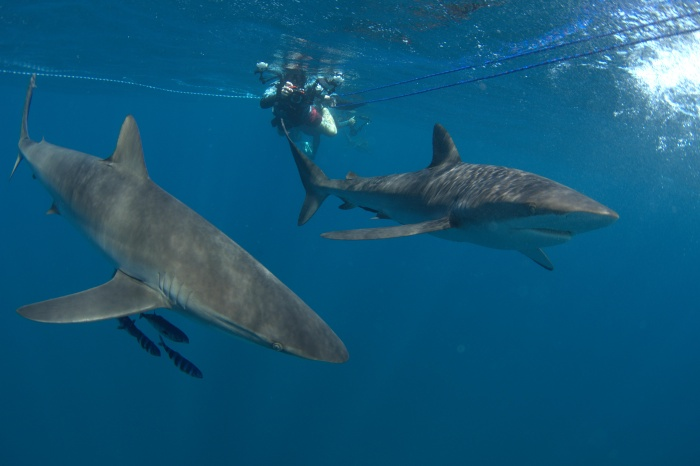Sedoso: (8, 67, 363, 385)
